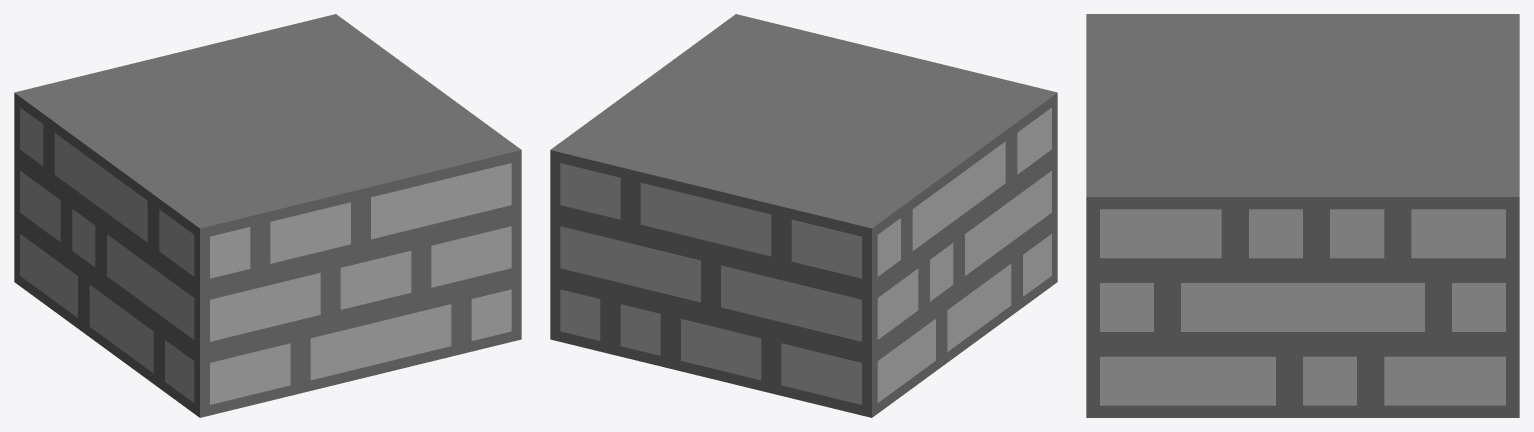
The model's file is city-building.gltf.
The picture shows the model from 3 angles, left to right: view 1: azimuth 30°, elevation 25°; view 2: azimuth 150°, elevation 25°; view 3: azimuth 270°, elevation 25°; orthographic projection. The views are drawn at different scales.
Visible parts, largest first — view 1: city-building; view 2: city-building; view 3: city-building.
Boxes of the visible parts, x1,y1,x2,y2 form: city-building: (14, 14, 521, 417); city-building: (550, 14, 1057, 417); city-building: (1086, 14, 1519, 417).
Bounding box in the file's own units: 3.2 × 1.8 × 3.2.
1 material, 1 textured.
